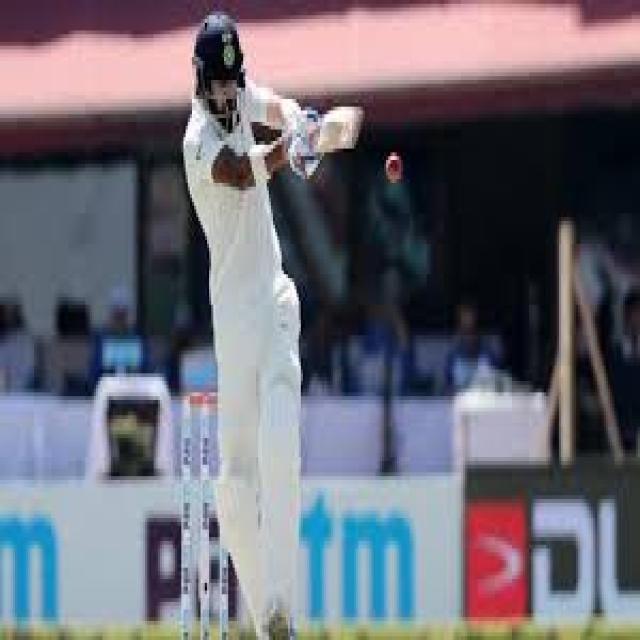toe: (345, 107, 363, 153)
